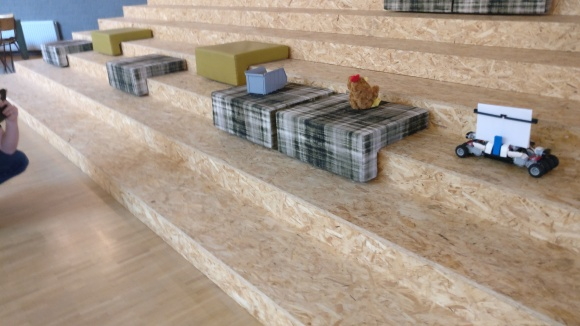car: (455, 101, 560, 176)
chicken: (344, 72, 382, 110)
tray: (244, 65, 288, 96)
